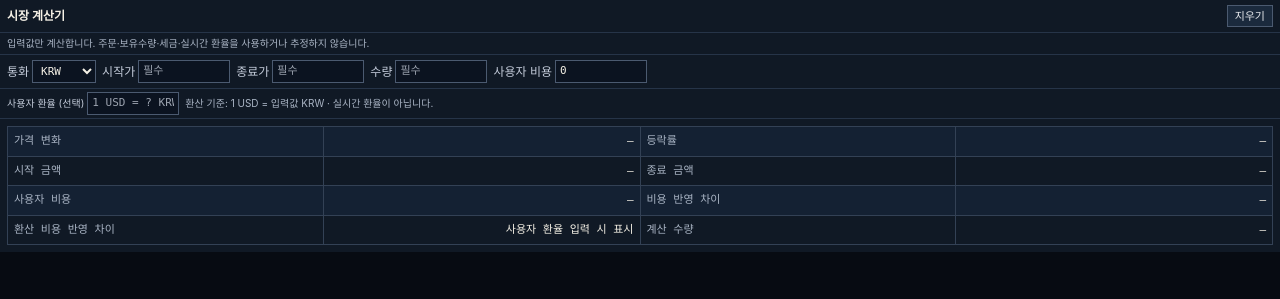
Scenario: MarketCalculator › shows only local explicit-cost calculation and no result before required input
Expected: the text "입력값만 계산합니다. 주문·보유수량·세금·실시간 환율을 사용하거나 추정하지 않습니다." is shown, [0,33,1279,55]
Type "100" into the field labelled "시작가" at (184, 72), box [138,60,230,83]
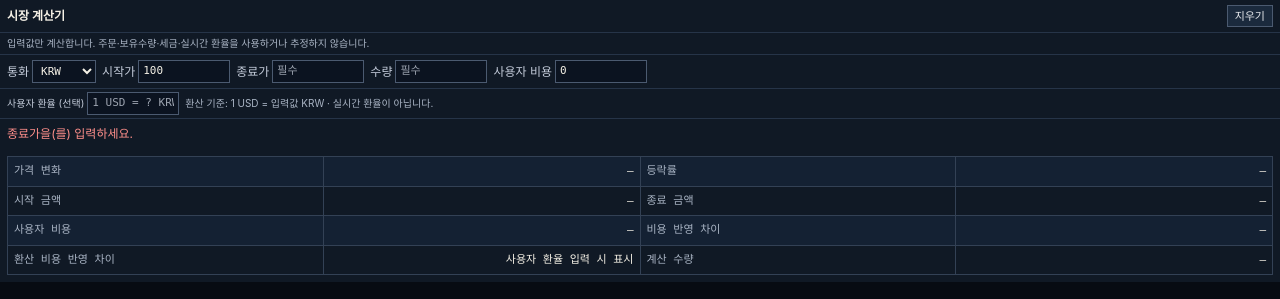
Type "110" into the field labelled "종료가" at (318, 72), box [272,60,364,83]
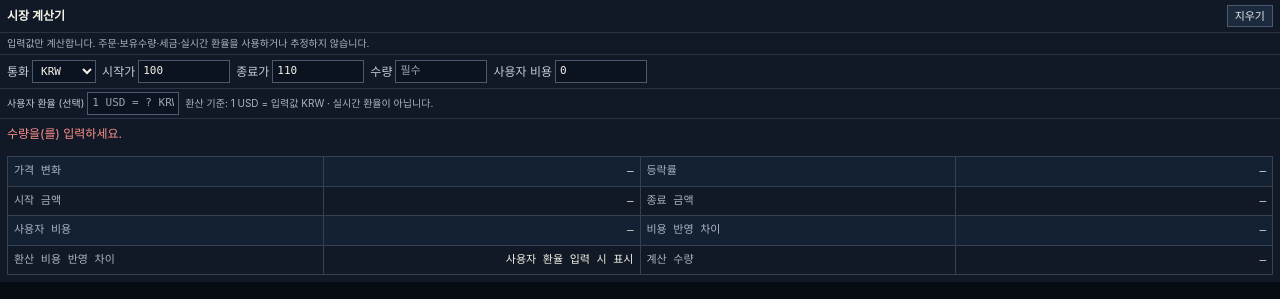
Type "2" into the field labelled "수량" at (441, 72), box [395,60,487,83]
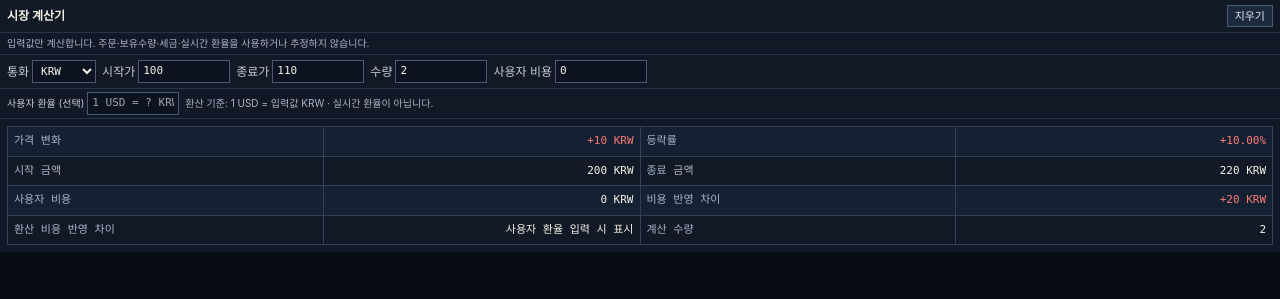
Expected: the text "사용자 환율 입력 시 표시" is shown, [506,222,634,236]
Expected: the text "+10 KRW" is shown, [587,134,634,147]
Expected: the text "+20 KRW" is shown, [1220,193,1266,206]
